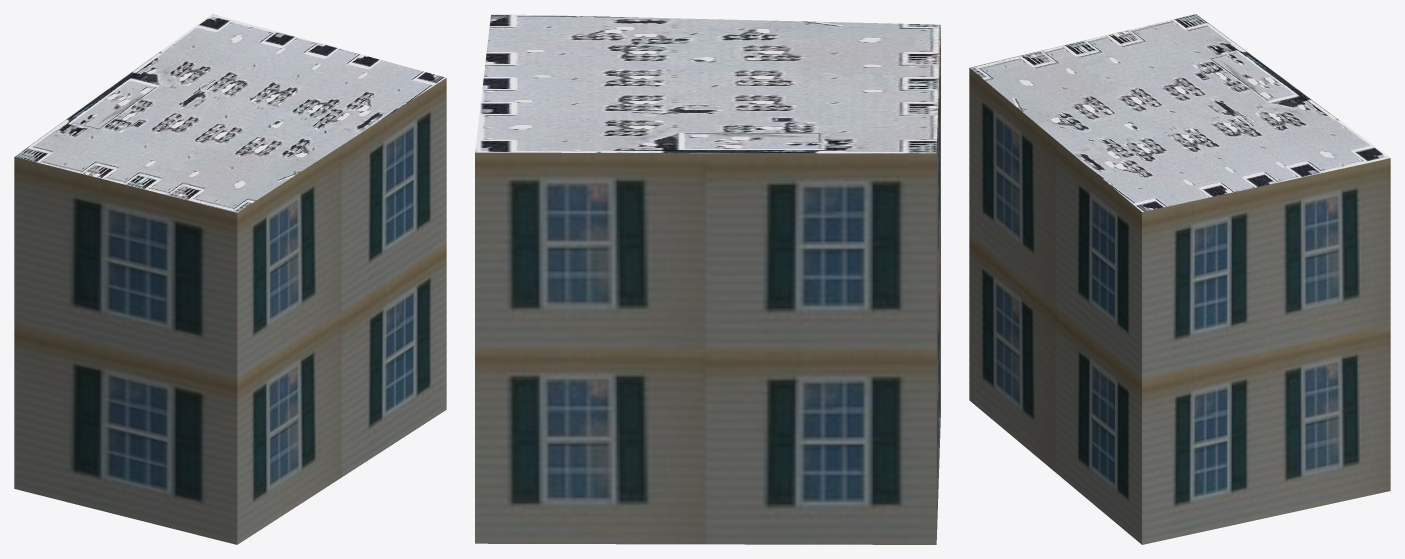
The model's file is ResTex__1547.fbx.
3 renders of one model, left to right at view 1: azimuth 30°, elevation 25°; view 2: azimuth 150°, elevation 25°; view 3: azimuth 270°, elevation 25°, orthographic. The views are drawn at different scales.
Visible parts, largest first — view 1: CityEngineMaterial_7_m, CityEngineMaterial_m; view 2: CityEngineMaterial_7_m, CityEngineMaterial_m; view 3: CityEngineMaterial_7_m, CityEngineMaterial_m.
Part boxes in pixels (x1,y1,x2,y2): CityEngineMaterial_7_m: (14,78,446,544); CityEngineMaterial_m: (14,14,446,212); CityEngineMaterial_7_m: (475,27,940,544); CityEngineMaterial_m: (475,14,940,153); CityEngineMaterial_7_m: (969,68,1390,544); CityEngineMaterial_m: (970,14,1390,211).
Size of the model in its own units: 7.66 by 6 by 6.88.
2 materials, 2 textured.
